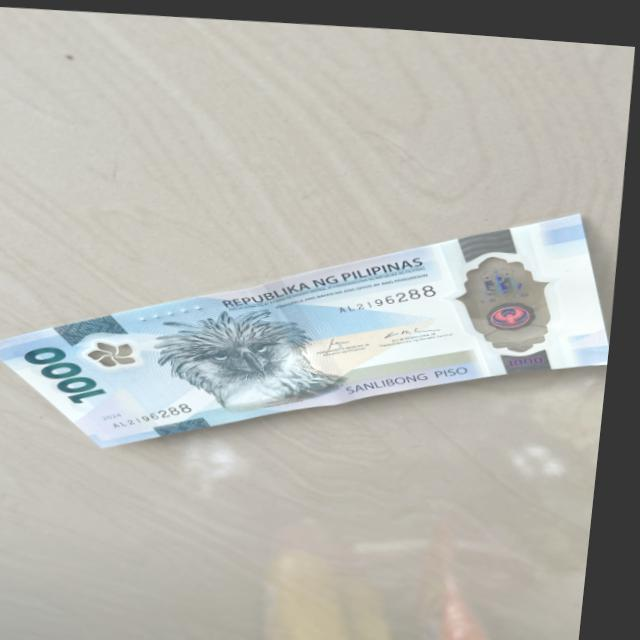clear_window: (460, 238, 558, 356)
eagle: (163, 308, 340, 407)
sampaguita: (94, 334, 143, 370)
